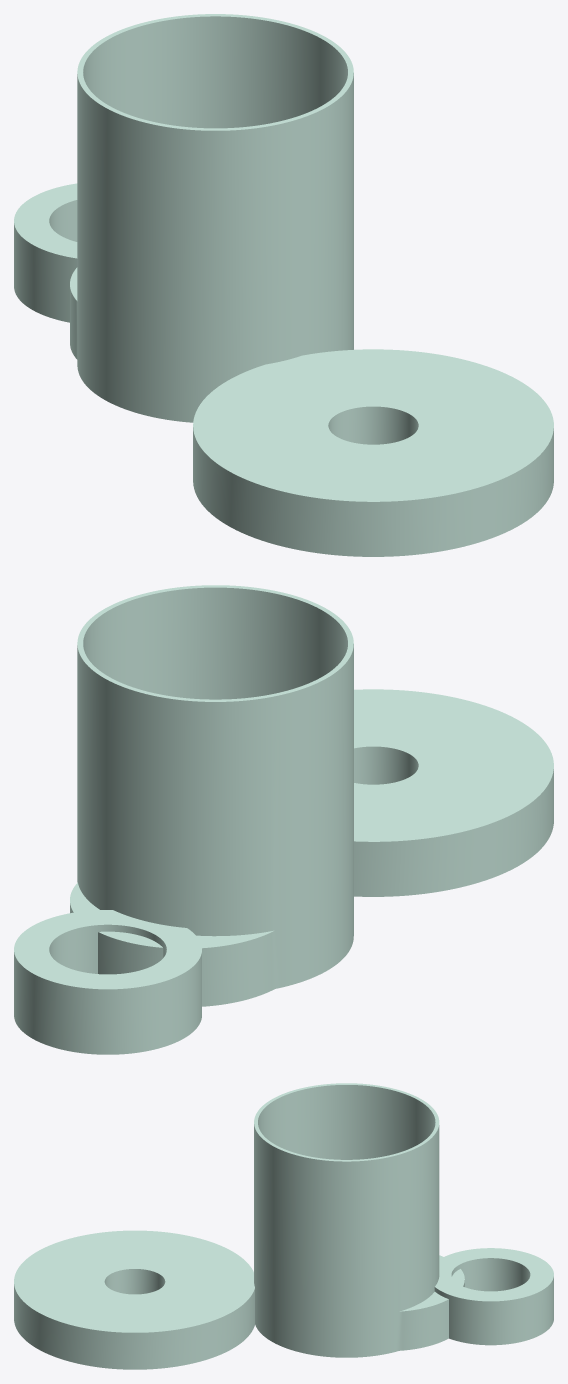
3 views of the same model, one above another, from view 1: azimuth 30°, elevation 25°; view 2: azimuth 150°, elevation 25°; view 3: azimuth 270°, elevation 25° (orthographic). The views are drawn at different scales.
Visible parts, largest first — view 1: Renderer Node; view 2: Renderer Node; view 3: Renderer Node.
Part boxes in pixels (bbox=[...]): Renderer Node: bbox=[14, 14, 553, 556]; Renderer Node: bbox=[14, 585, 553, 1054]; Renderer Node: bbox=[14, 1083, 553, 1369].
Size of the model in its own units: 0.742 by 0.6641 by 1.66.
